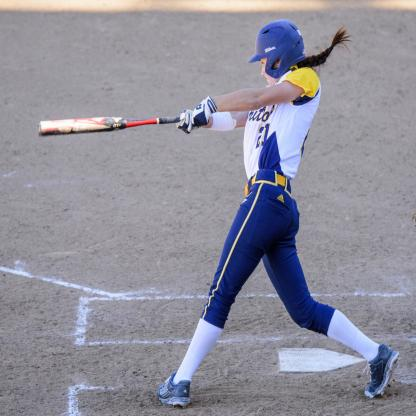Helmet: (250, 19, 316, 73)
